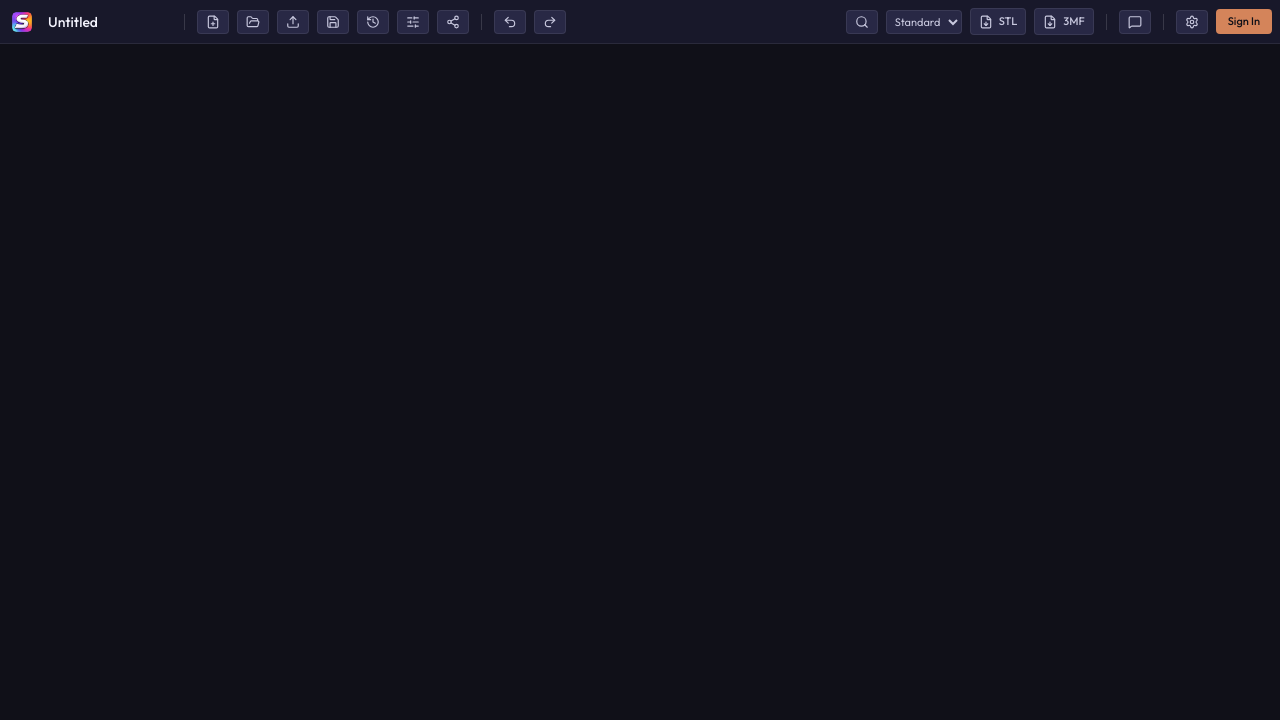
Test: Toolbar project versions › exposes named versions, retention, and restore controls
Click the button titled "Project versions" at (373, 22), box x1=357 y1=10 x2=389 y2=34
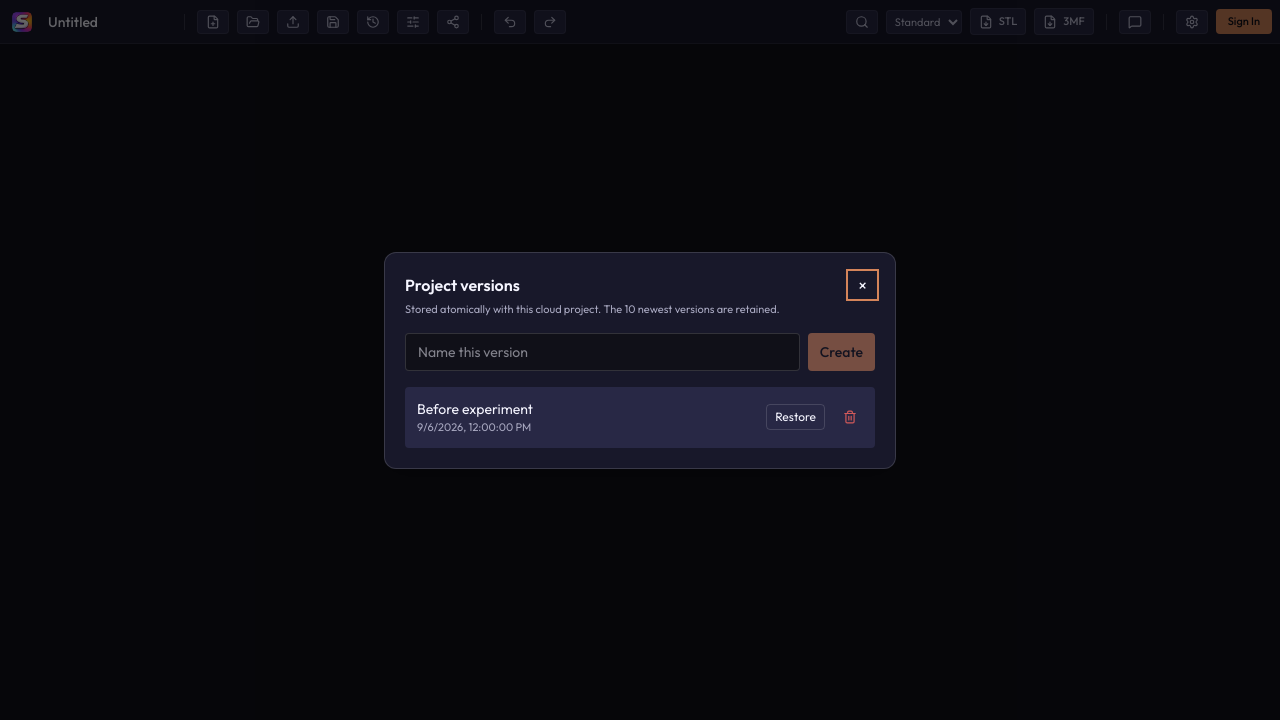
Check: the dialog "Project versions" is shown, box x1=384 y1=252 x2=896 y2=468
Check: the text "Before experiment" is shown, box x1=417 y1=400 x2=533 y2=418
Check: the text "10 newest versions" is shown, box x1=405 y1=302 x2=780 y2=316
